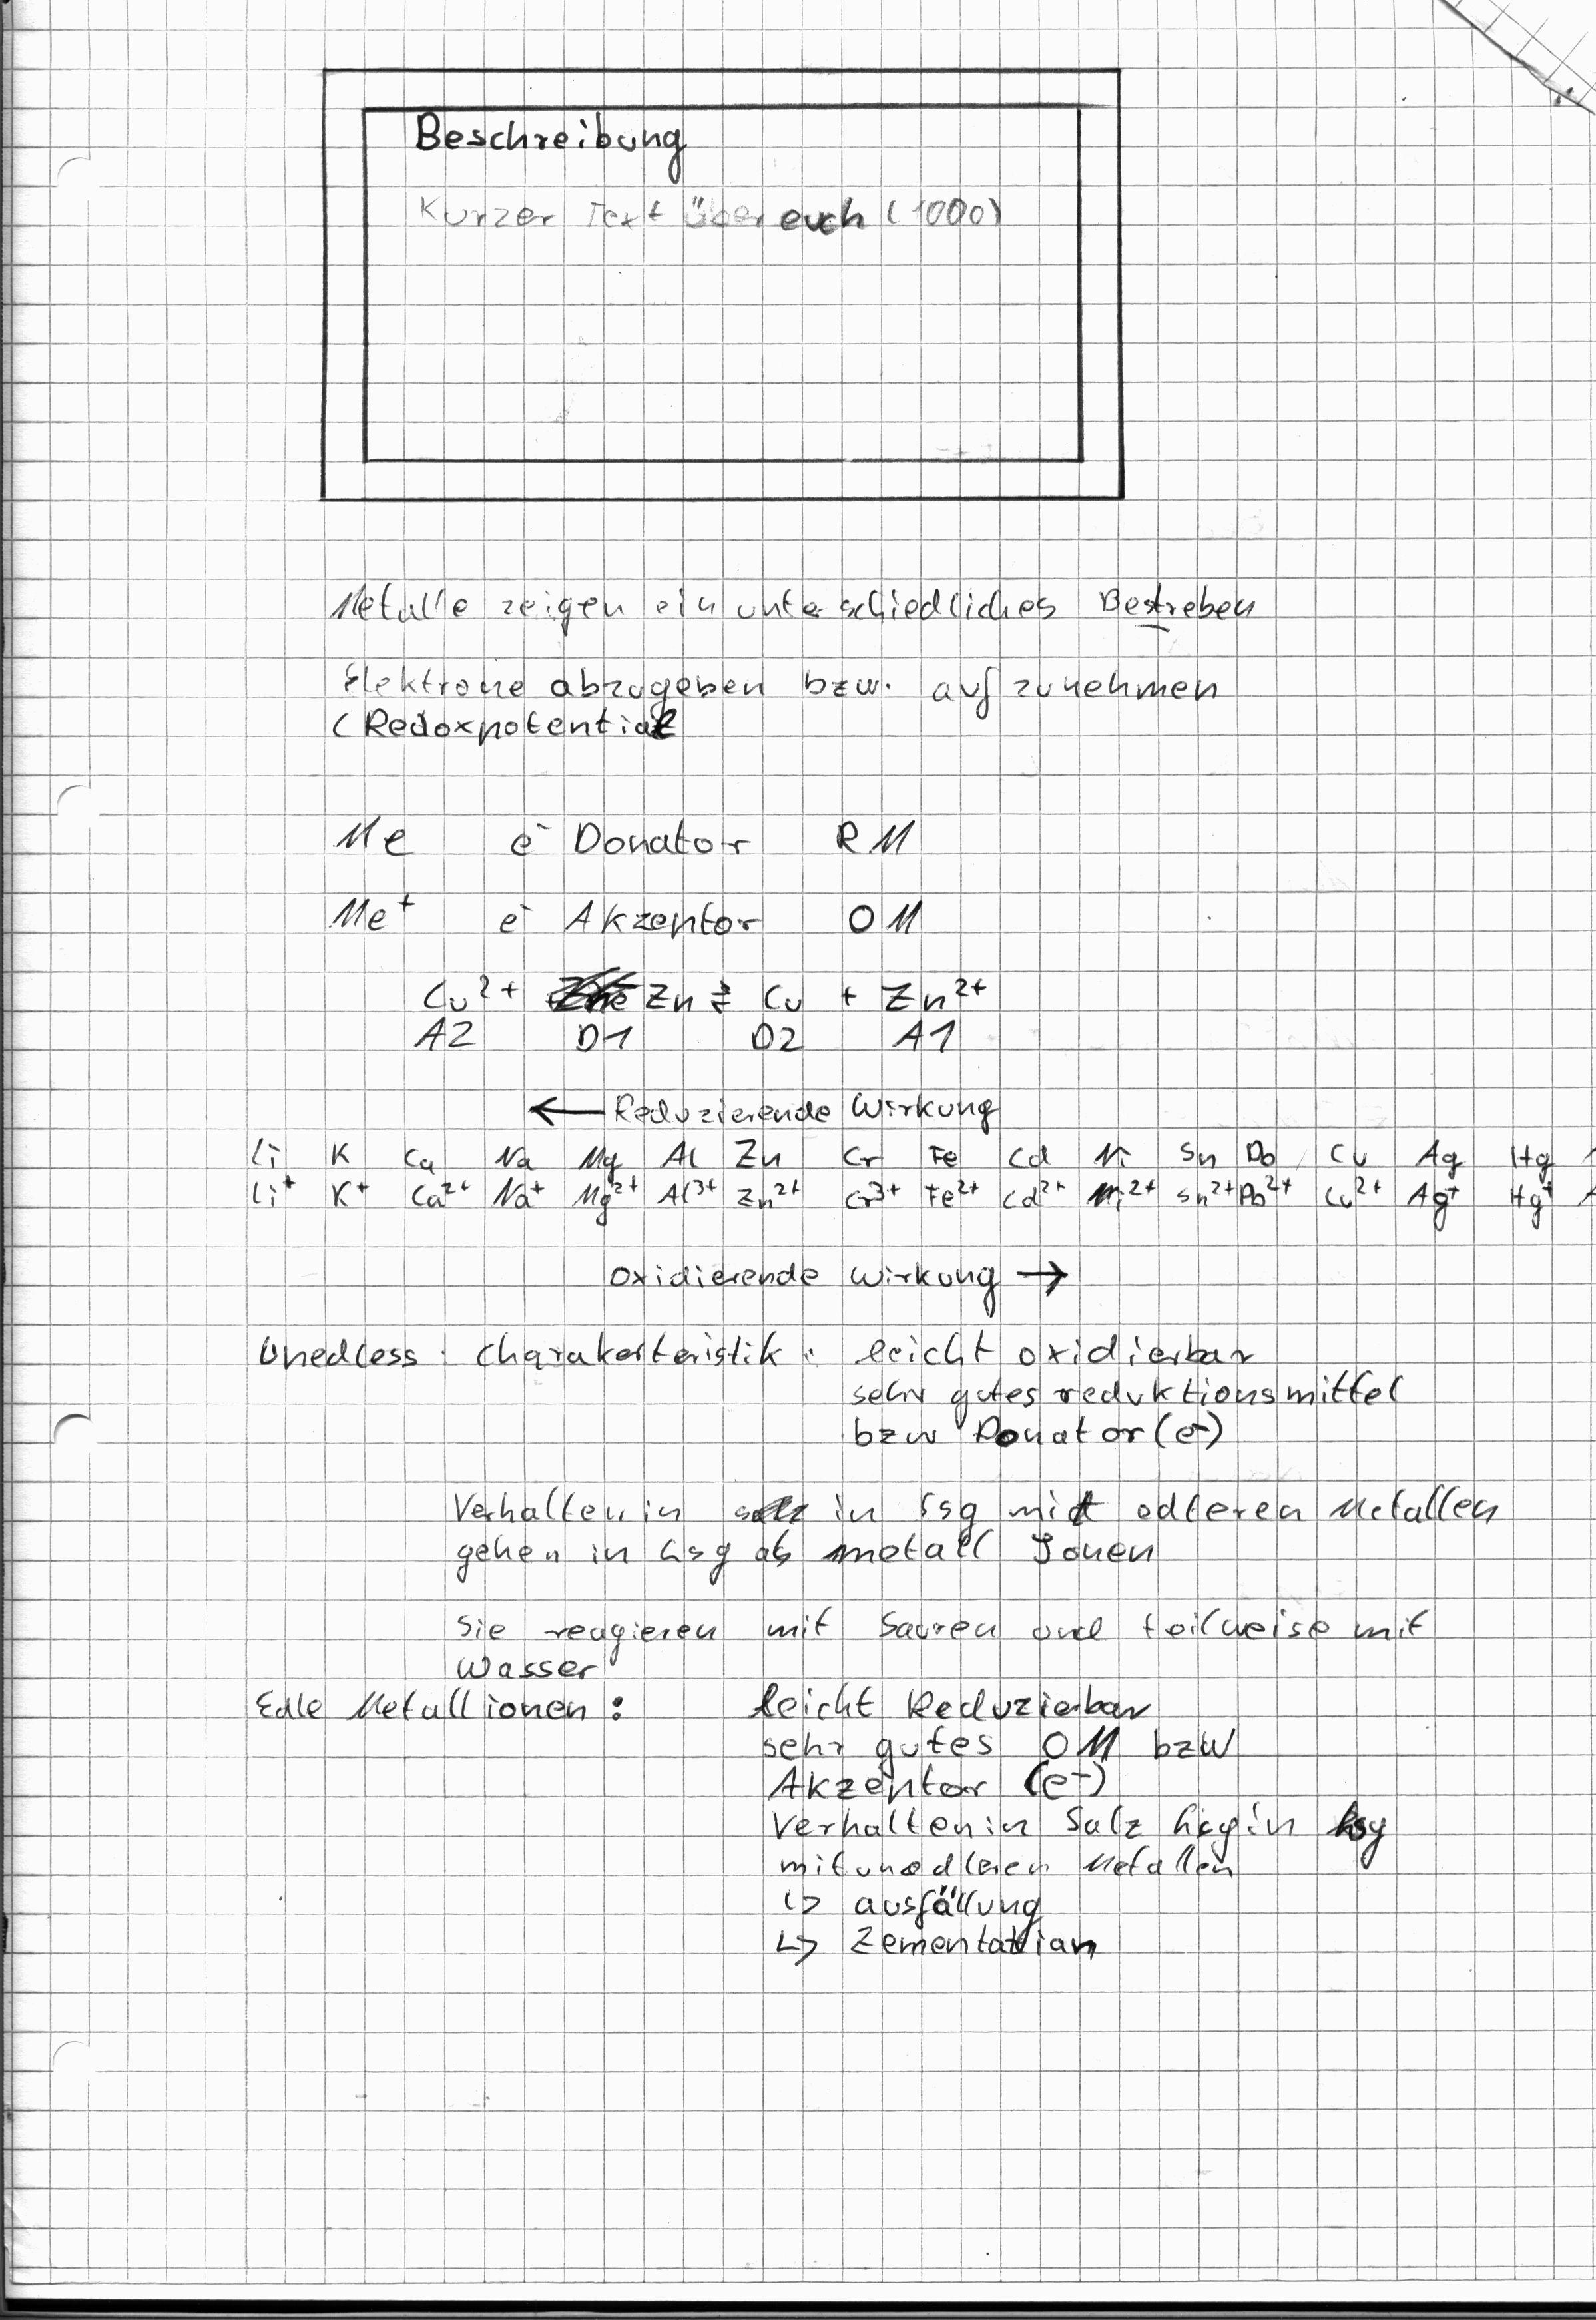word: (728, 1661, 1417, 1986), (233, 1088, 1593, 1237), (305, 557, 1254, 762), (442, 1463, 1507, 1598), (310, 790, 945, 949), (840, 1314, 1426, 1464), (403, 957, 1001, 1075), (249, 1646, 645, 1745), (243, 1314, 824, 1380)
